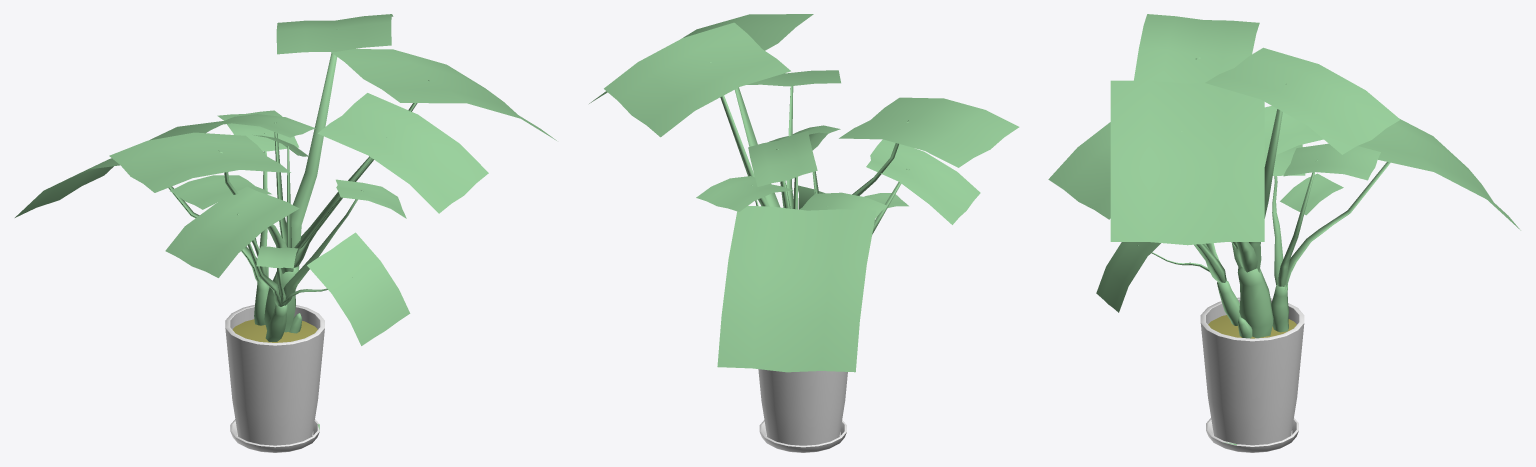
Rendered from Plant06.FBX.
The picture shows the model from 3 angles, left to right: view 1: azimuth 30°, elevation 25°; view 2: azimuth 150°, elevation 25°; view 3: azimuth 270°, elevation 25°; orthographic projection. The views are drawn at different scales.
Parts seen in each view (by area): view 1: Plant06; view 2: Plant06; view 3: Plant06.
Part boxes in pixels (x1,y1,x2,y2): Plant06: (15,14,556,452); Plant06: (589,14,1019,452); Plant06: (1048,14,1520,452).
Bounding box in the file's own units: 96.77 × 91.89 × 98.65.
